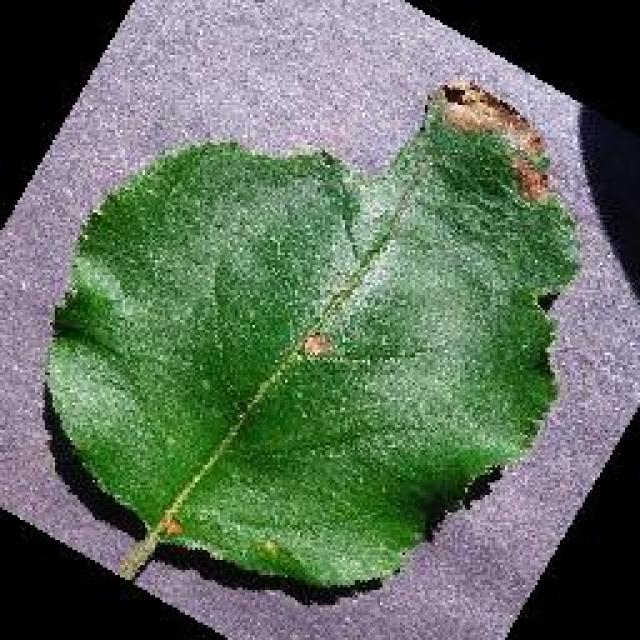apple black rot: (40, 78, 582, 598)
